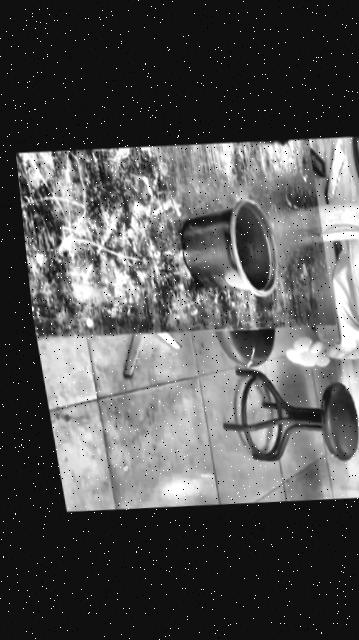pot: (173, 198, 280, 299)
